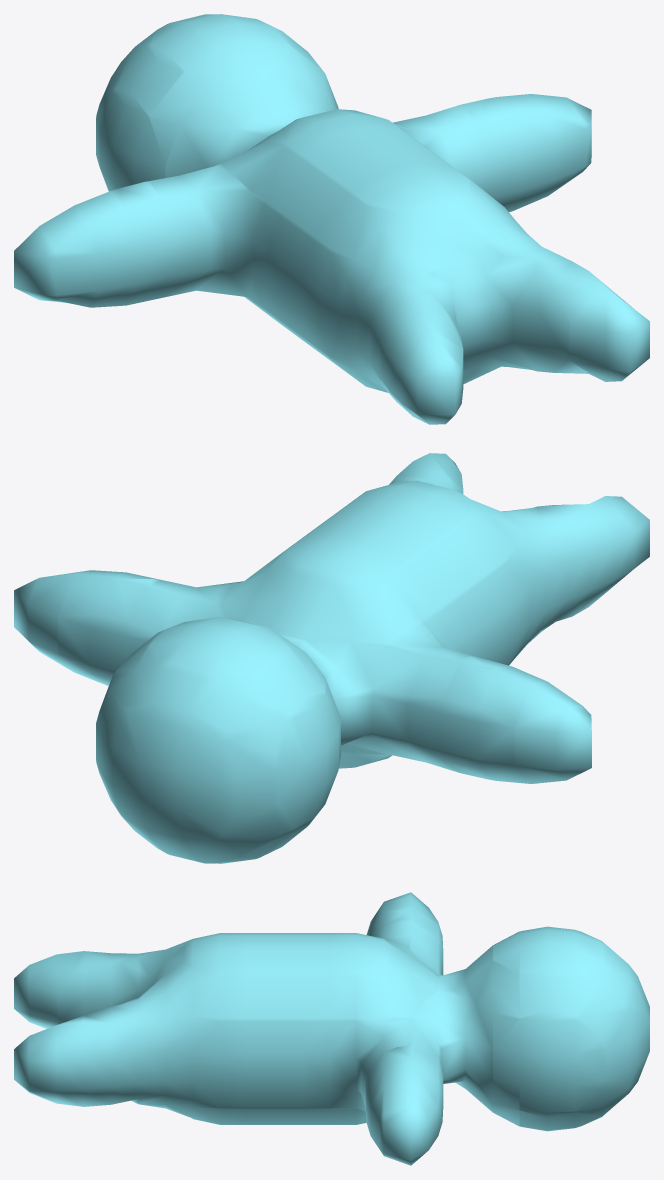
The model's file is Player.fbx.
The picture shows the model from 3 angles, top to bottom: view 1: azimuth 30°, elevation 25°; view 2: azimuth 150°, elevation 25°; view 3: azimuth 270°, elevation 25°; orthographic projection. The views are drawn at different scales.
Visible parts, largest first — view 1: メタボール; view 2: メタボール; view 3: メタボール.
Boxes of the visible parts, <box> form: メタボール: <box>14,14,649,424</box>; メタボール: <box>14,453,649,863</box>; メタボール: <box>14,892,649,1165</box>.
Bounding box in the file's own units: 617 × 227 × 712.
